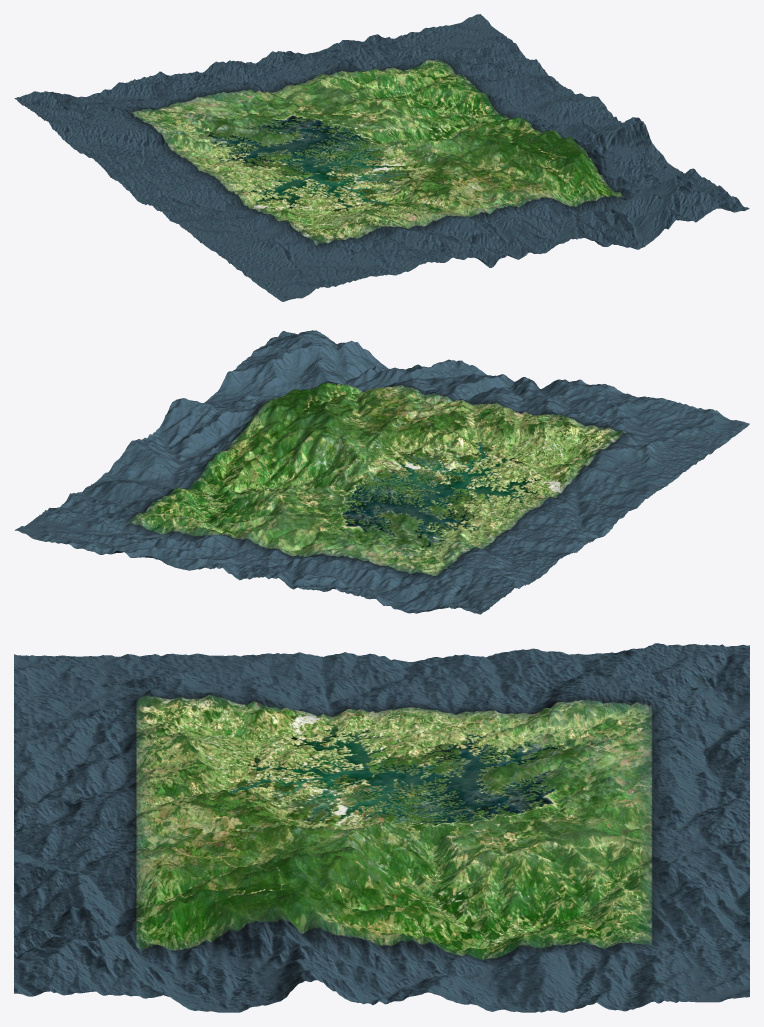
Rendered from penol.glb.
3 renders of one model, top to bottom at view 1: azimuth 30°, elevation 25°; view 2: azimuth 150°, elevation 25°; view 3: azimuth 270°, elevation 25°, orthographic. The views are drawn at different scales.
Parts seen in each view (by area): view 1: Relieve Peñol–Guatapé; view 2: Relieve Peñol–Guatapé; view 3: Relieve Peñol–Guatapé.
Part boxes in pixels (x1,y1,x2,y2): Relieve Peñol–Guatapé: [14, 14, 749, 301]; Relieve Peñol–Guatapé: [15, 330, 749, 614]; Relieve Peñol–Guatapé: [14, 643, 749, 1012].
Bounding box in the file's own units: 33.2 × 3.11 × 33.2.
Materials: 1 (1 with a texture image).
